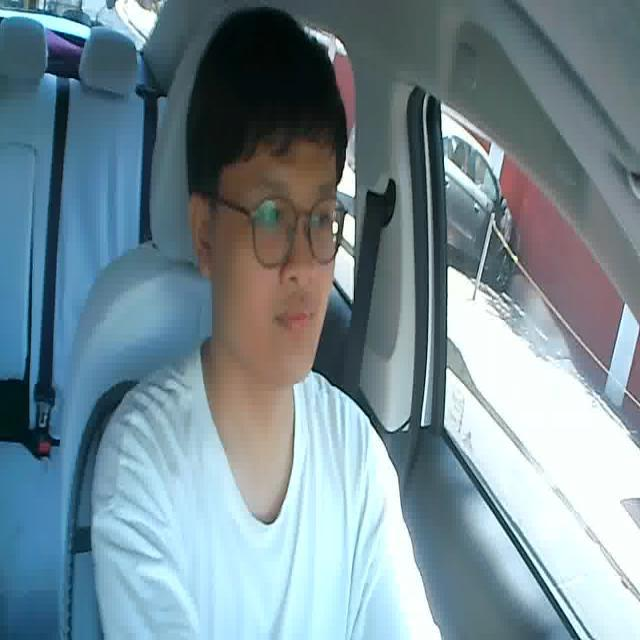Attentive: (181, 4, 354, 409)
Eye-Open: (257, 206, 282, 229), (310, 208, 332, 230)
Normal: (275, 303, 314, 339)
